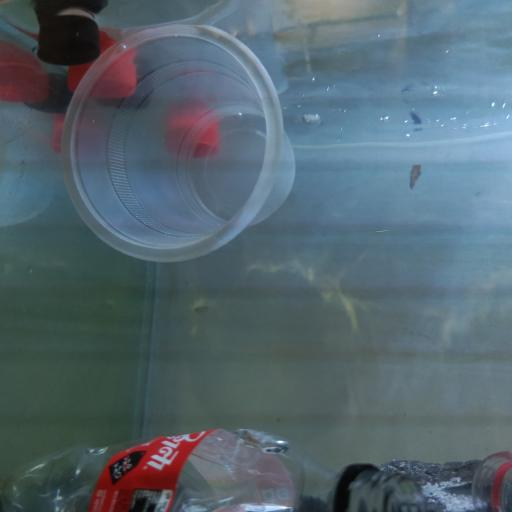bottle_cap: (40, 16, 98, 58), (69, 60, 133, 96), (165, 121, 218, 152)
plastic_bottle: (1, 427, 422, 512)
plastic_cup: (58, 22, 283, 259)
